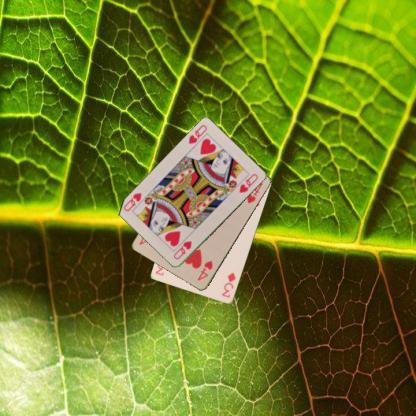3d: (219, 270, 237, 299)
4h: (194, 258, 214, 282)
Qh: (186, 122, 208, 146), (171, 239, 193, 261)
